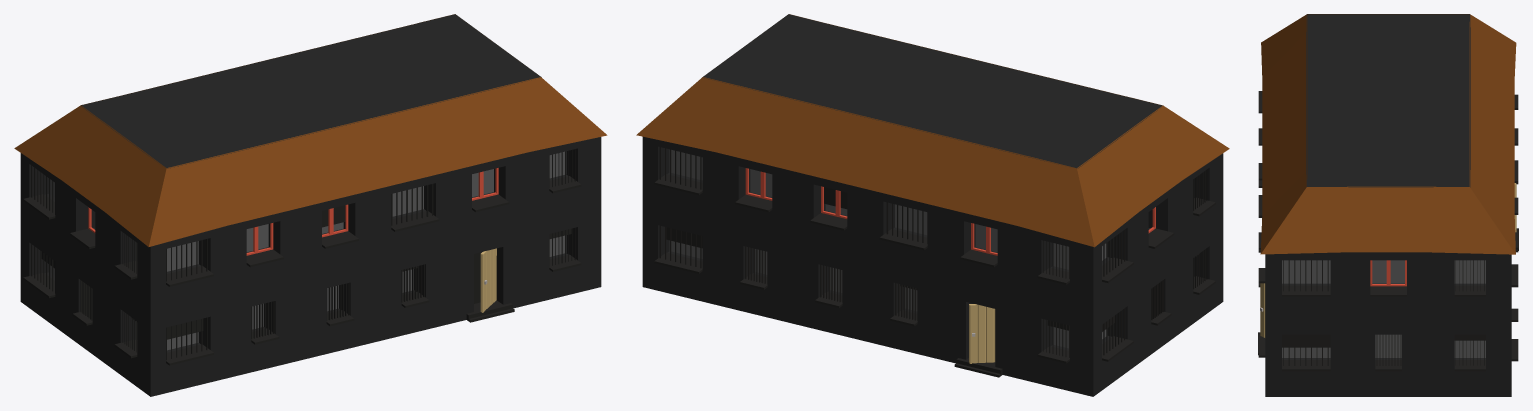
File: Casa_Procedural_14.fbx
3 renders of one model, left to right at view 1: azimuth 30°, elevation 25°; view 2: azimuth 150°, elevation 25°; view 3: azimuth 270°, elevation 25°, orthographic. The views are drawn at different scales.
Visible parts, largest first — view 1: 14; view 2: 14; view 3: 14.
Part boxes in pixels (x1,y1,x2,y2): 14: (14, 14, 607, 396); 14: (636, 14, 1229, 396); 14: (1258, 14, 1518, 396).
Bounding box in the file's own units: 616 × 259 × 318.
